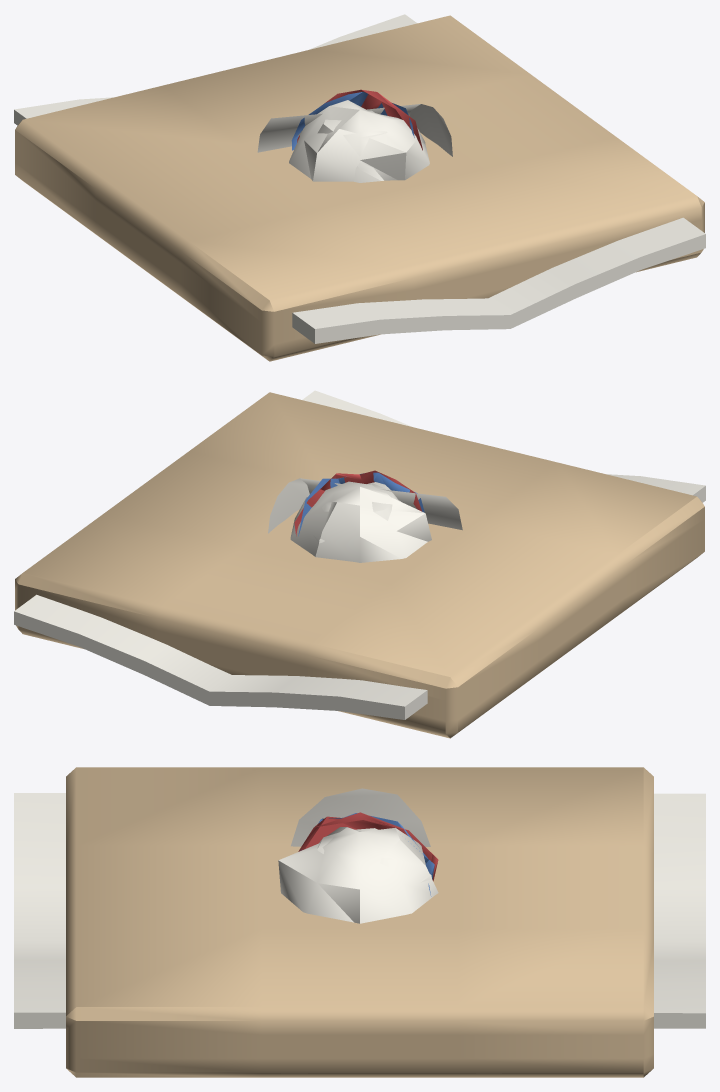
File: litter_kit.glb
3 views of the same model, one above another, from view 1: azimuth 30°, elevation 25°; view 2: azimuth 150°, elevation 25°; view 3: azimuth 270°, elevation 25° (orthographic). The views are drawn at different scales.
Visible parts, largest first — view 1: pizza_box, newspaper, paper_crumpled_a, cup, paper_crumpled_b, can_crushed_a, can_crushed_b; view 2: pizza_box, newspaper, paper_crumpled_a, cup, can_crushed_a, can_crushed_b; view 3: pizza_box, newspaper, paper_crumpled_a, cup, can_crushed_a.
Part boxes in pixels (x1,y1,x2,y2): pizza_box: (15,15,704,361); newspaper: (14,14,705,343); paper_crumpled_a: (289,100,429,181); cup: (257,104,452,156); paper_crumpled_b: (317,110,387,182); can_crushed_a: (297,89,422,150); can_crushed_b: (291,92,414,150); pizza_box: (15,392,704,738); newspaper: (14,390,705,719); paper_crumpled_a: (290,481,431,562); cup: (268,478,462,533); can_crushed_a: (294,470,421,536); can_crushed_b: (298,472,424,536); pizza_box: (66,767,653,1077); newspaper: (14,793,705,1028); paper_crumpled_a: (278,827,438,923); cup: (291,788,430,846); can_crushed_a: (298,812,438,881).
Size of the model in its own units: 0.34 by 0.0891 by 0.4.
